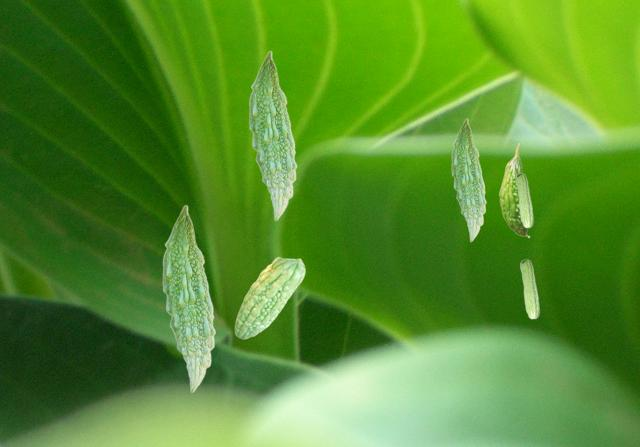ampalaya: (162, 204, 216, 393), (248, 50, 297, 221), (234, 256, 306, 339), (451, 117, 486, 242), (498, 142, 530, 238), (519, 259, 540, 319), (515, 172, 534, 228)
